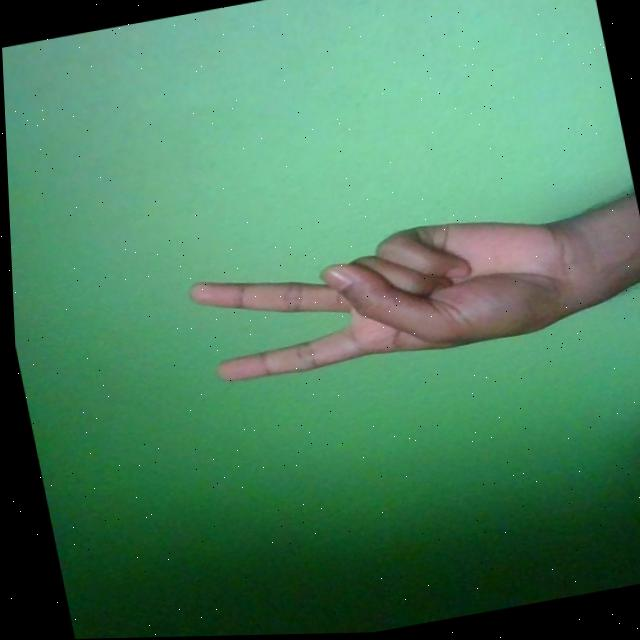Peace: (178, 201, 587, 392)
